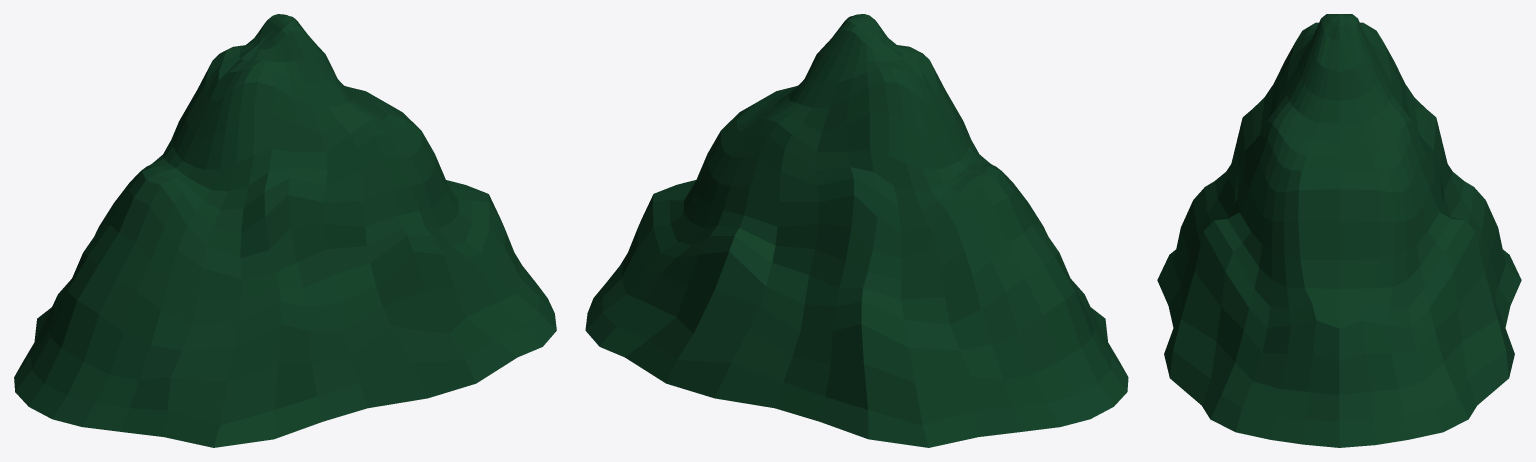
File: Montaña.fbx
3 views of the same model, side by side, from view 1: azimuth 30°, elevation 25°; view 2: azimuth 150°, elevation 25°; view 3: azimuth 270°, elevation 25° (orthographic). The views are drawn at different scales.
Parts seen in each view (by area): view 1: Cone; view 2: Cone; view 3: Cone.
Part boxes in pixels (x1=…): Cone: x1=14, y1=14, x2=556, y2=447; Cone: x1=585, y1=14, x2=1128, y2=447; Cone: x1=1157, y1=14, x2=1521, y2=447.
Bounding box in the file's own units: 7118 × 4394 × 4595.
